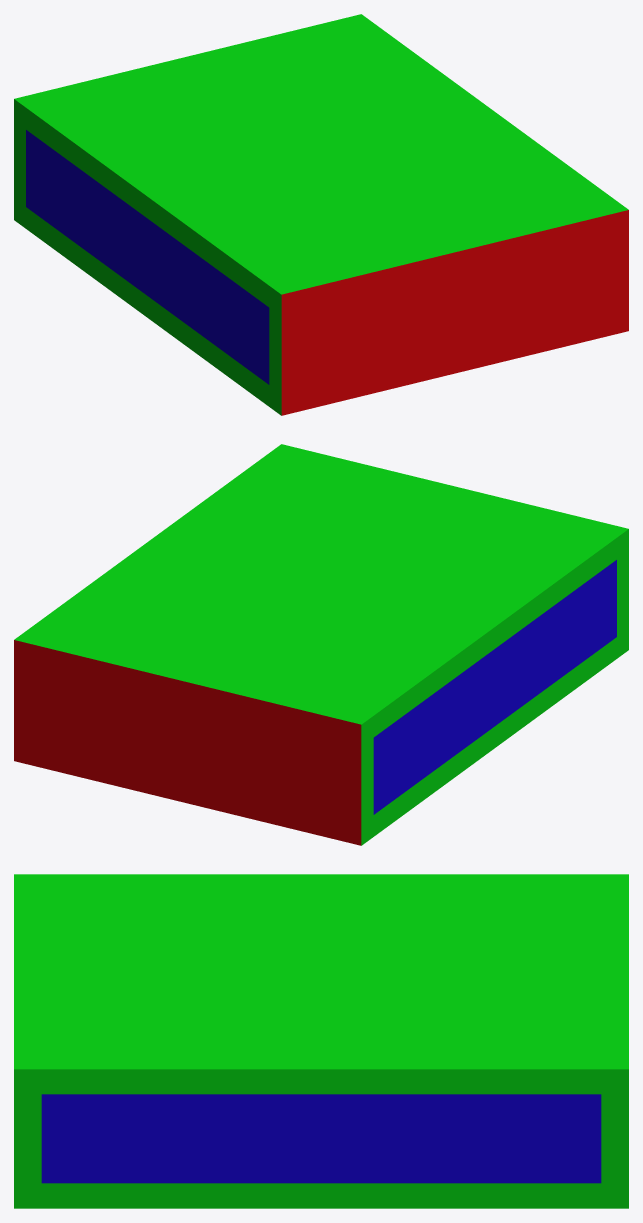
The model's file is Matchbox.fbx.
3 views of the same model, one above another, from view 1: azimuth 30°, elevation 25°; view 2: azimuth 150°, elevation 25°; view 3: azimuth 270°, elevation 25° (orthographic). The views are drawn at different scales.
Visible parts, largest first — view 1: Cube; view 2: Cube; view 3: Cube.
Part boxes in pixels (<box>): Cube: <box>14,14,628,415</box>; Cube: <box>14,444,628,845</box>; Cube: <box>14,874,628,1208</box>.
Bounding box in the file's own units: 3.81 × 1.27 × 5.08.
